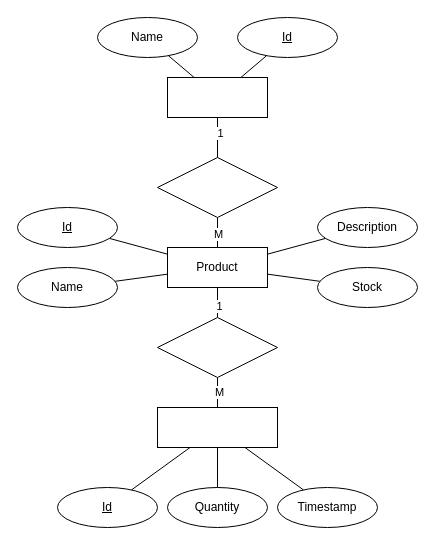
Image size: 435x545. Some labels were removed from this diagram. Each missing label, with the centre of its shape:
"Category" belongs at [217,97].
"contains" belongs at [217,187].
"has" belongs at [217,347].
"InventoryTransaction" belongs at [217,427].
